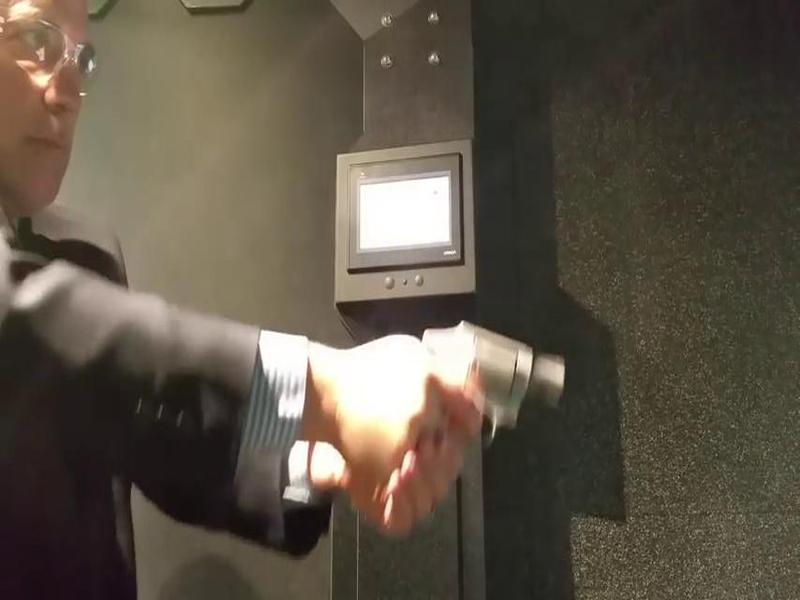Revolver: (380, 297, 571, 451)
